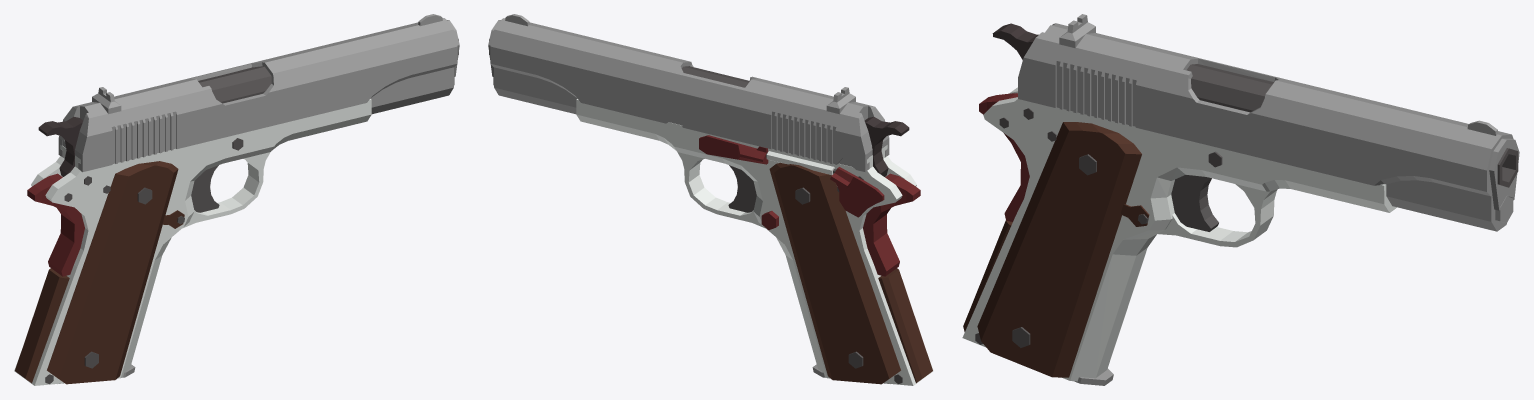
The picture shows the model from 3 angles, left to right: view 1: azimuth 30°, elevation 25°; view 2: azimuth 150°, elevation 25°; view 3: azimuth 330°, elevation 25°; orthographic projection. The views are drawn at different scales.
Parts seen in each view (by area): view 1: body, slide, hammer; view 2: body, slide, hammer; view 3: body, slide, hammer.
Boxes of the visible parts, x1,y1,x2,y2 form: body: (14,39,458,385); slide: (58,14,459,172); hammer: (38,117,83,176); body: (489,39,933,385); slide: (488,14,889,172); hammer: (864,117,909,176); body: (962,64,1518,381); slide: (1018,14,1519,231); hammer: (992,23,1038,59).
Bounding box in the file's own units: 0.2192 × 0.1382 × 0.0278.
